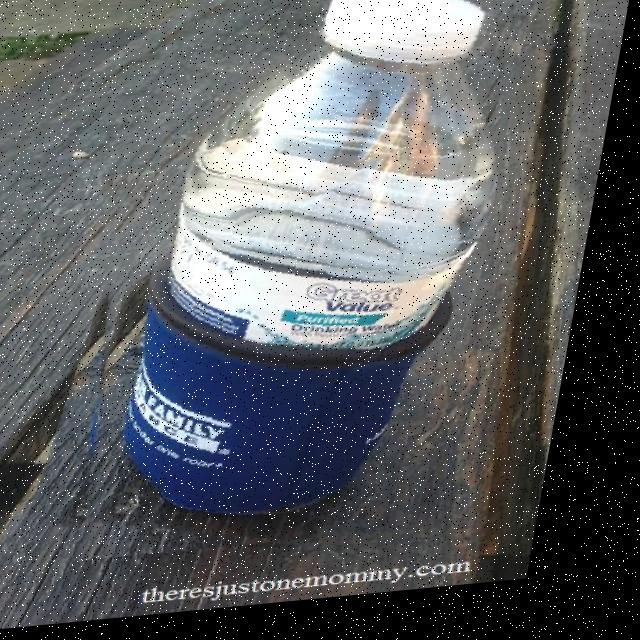litter: (60, 0, 539, 567), (211, 0, 487, 89)
